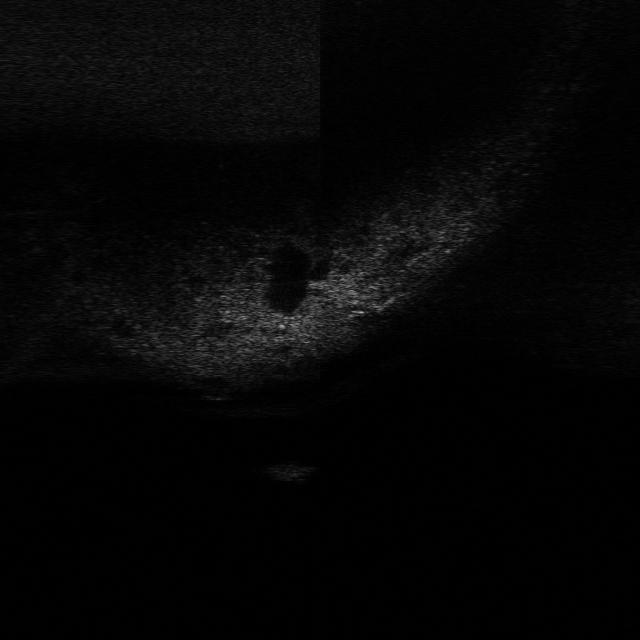cube: (258, 458, 318, 486)
